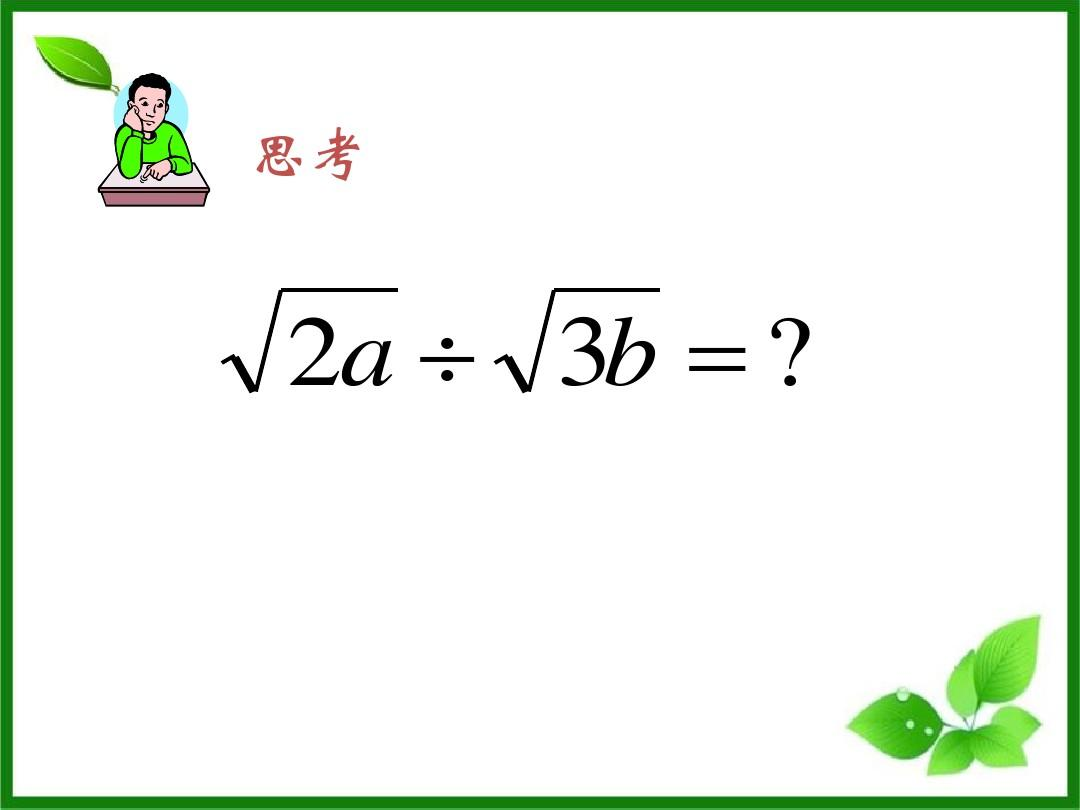sqrt: (236, 275, 409, 398), (509, 278, 676, 398)
